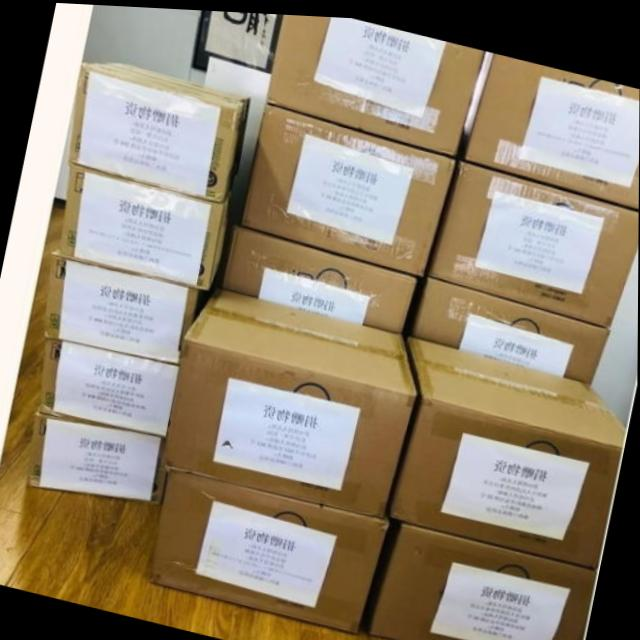box: (167, 285, 416, 514), (391, 334, 628, 561), (151, 468, 390, 630), (241, 100, 457, 273), (428, 158, 639, 321), (267, 12, 485, 151), (368, 519, 599, 640), (466, 49, 640, 202), (69, 61, 251, 200), (58, 163, 233, 287), (223, 223, 418, 330), (411, 274, 611, 377), (44, 249, 199, 361), (38, 336, 182, 434), (27, 413, 169, 501)
